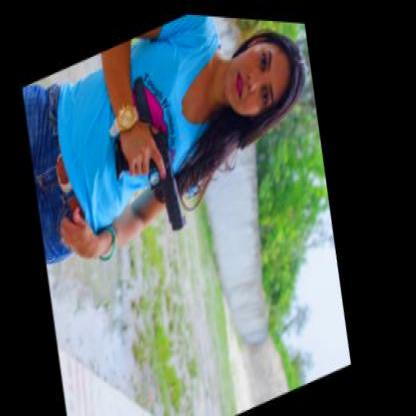pistol: (100, 101, 204, 256)
